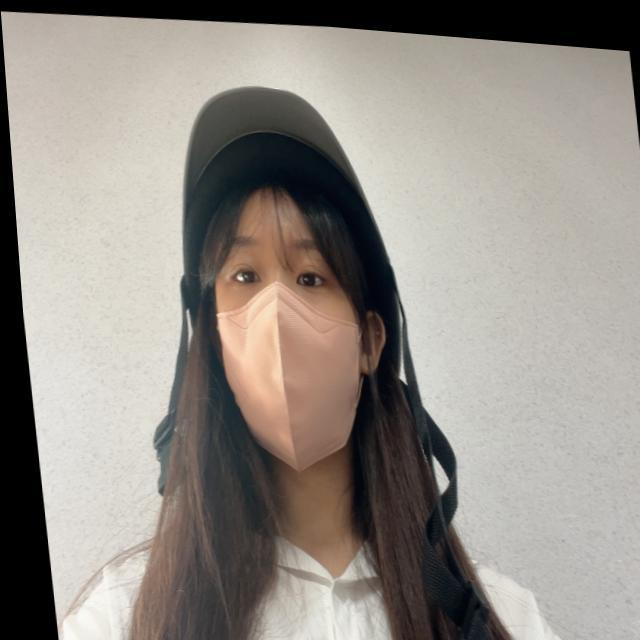Helmet: (152, 67, 432, 482)
